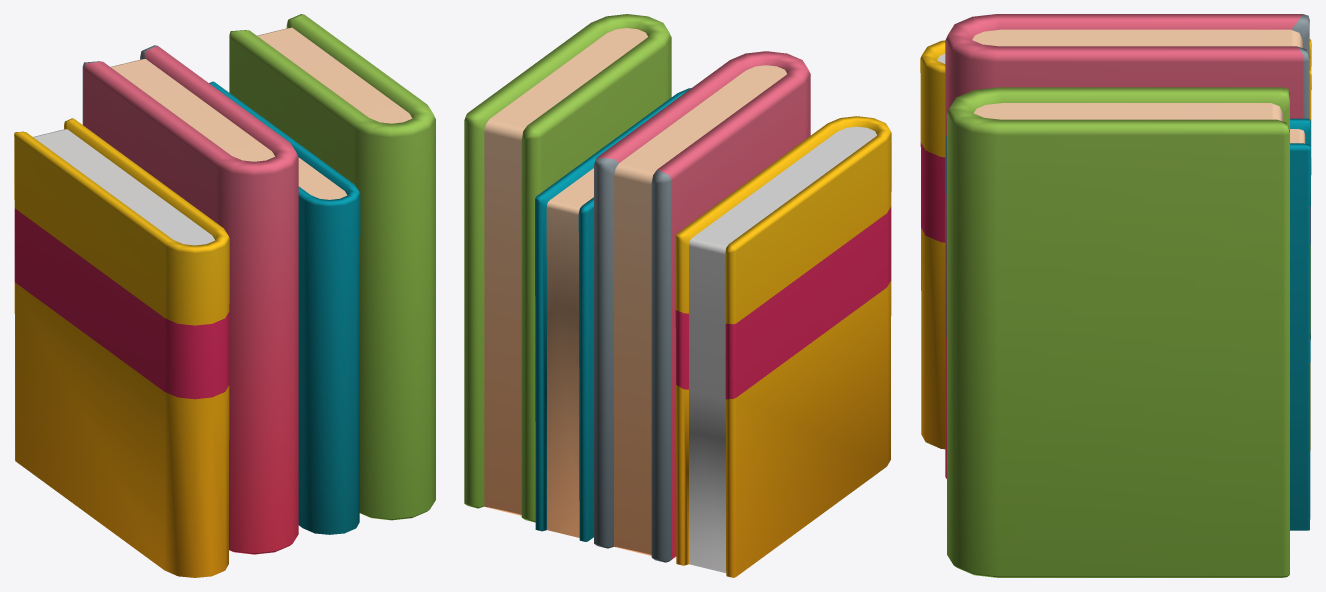
The model's file is Book_01.glb.
3 views of the same model, side by side, from view 1: azimuth 30°, elevation 25°; view 2: azimuth 150°, elevation 25°; view 3: azimuth 270°, elevation 25° (orthographic). The views are drawn at different scales.
Visible parts, largest first — view 1: Book_01; view 2: Book_01; view 3: Book_01.
Boxes of the visible parts, x1=… form: Book_01: x1=14, y1=14, x2=435, y2=577; Book_01: x1=464, y1=14, x2=891, y2=577; Book_01: x1=920, y1=14, x2=1311, y2=577.
Bounding box in the file's own units: 0.207 × 0.2738 × 0.2156.
1 material, 1 textured.
